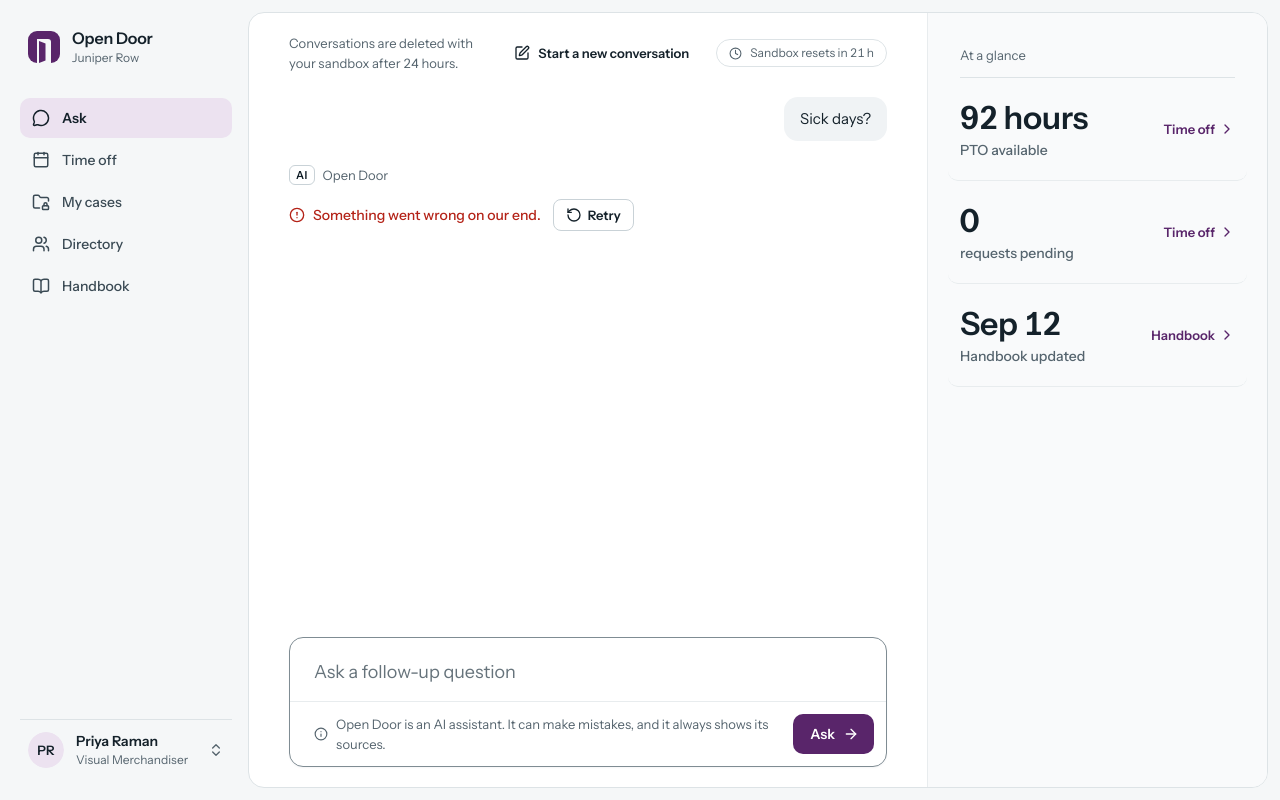
Test: a turn that is streaming, stopped, or has failed › leaves what was typed in the box when Retry re-sends the question, even if it is the same words
Type "Sick days?" into the text box named "Ask Open Door" at coordinates (588, 666), box top-left (290, 638), bottom-right (886, 694)
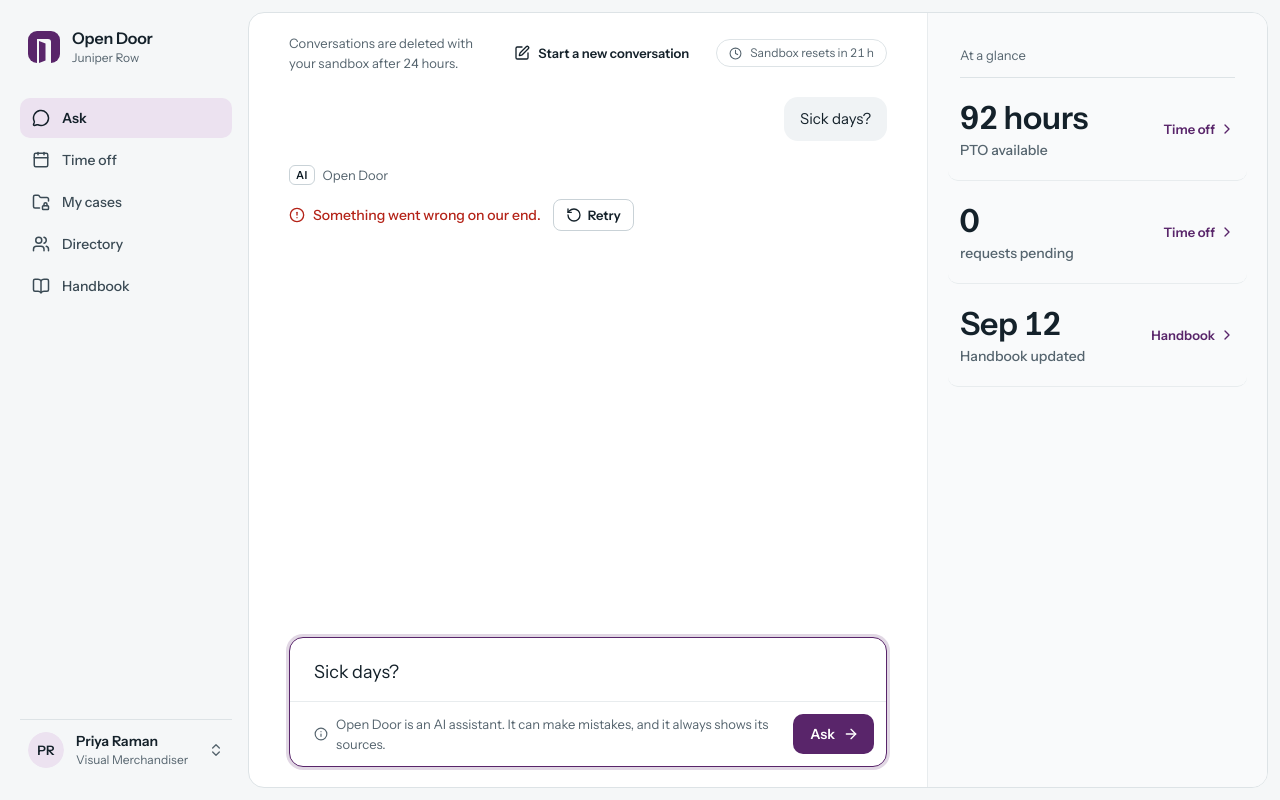
Click the button "Retry" at coordinates (593, 215), box top-left (553, 199), bottom-right (634, 231)
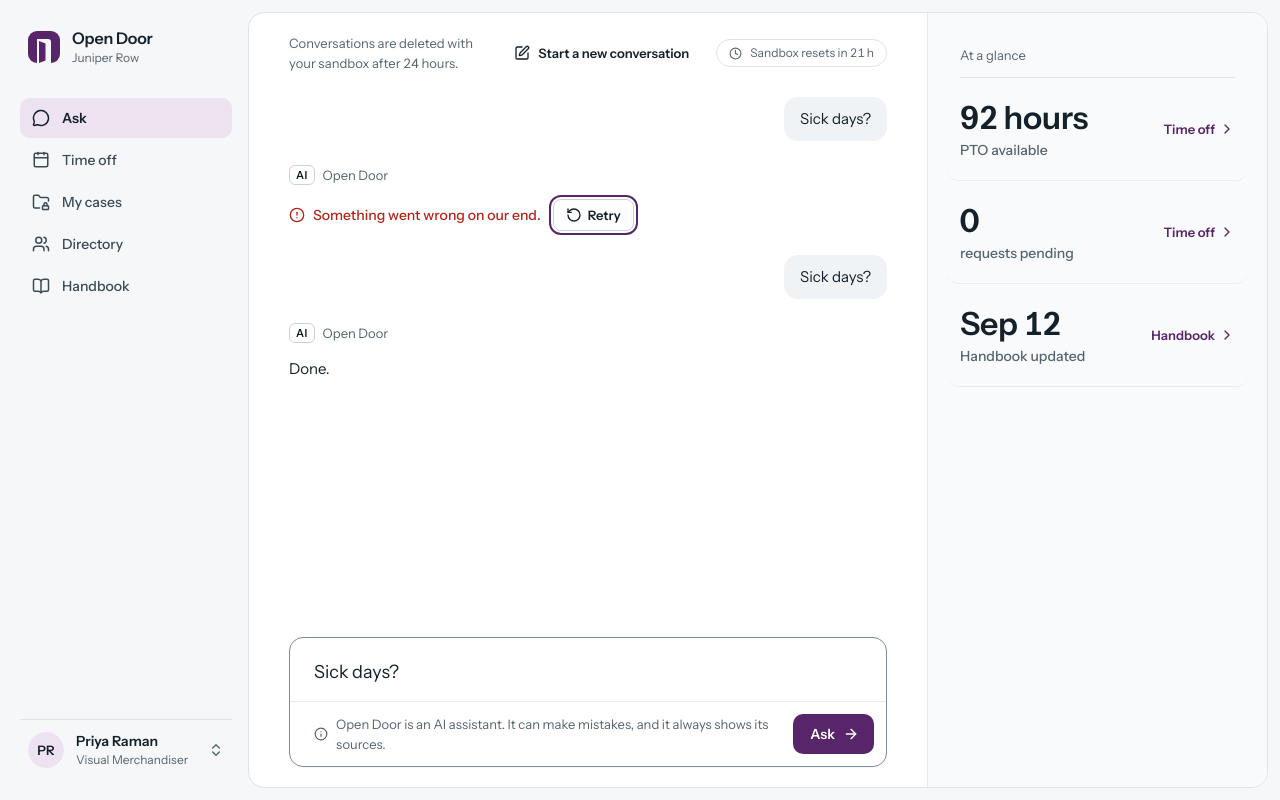
Check: the text "Done." is shown, box top-left (289, 359), bottom-right (330, 378)
